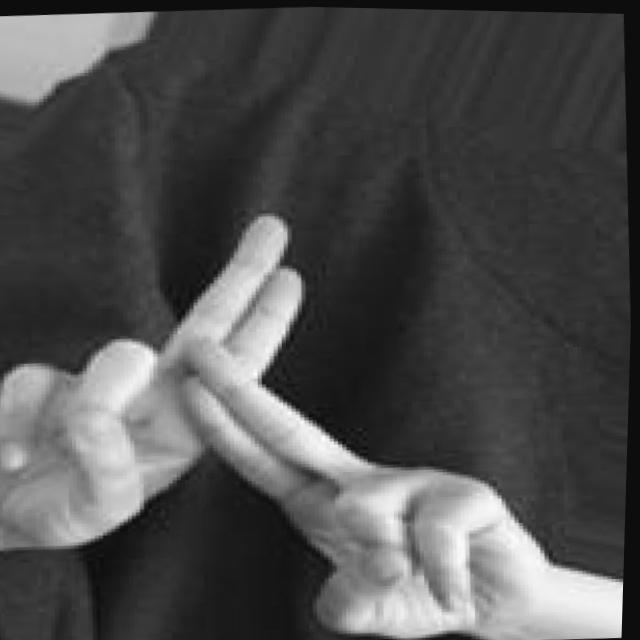K: (0, 182, 568, 640)
